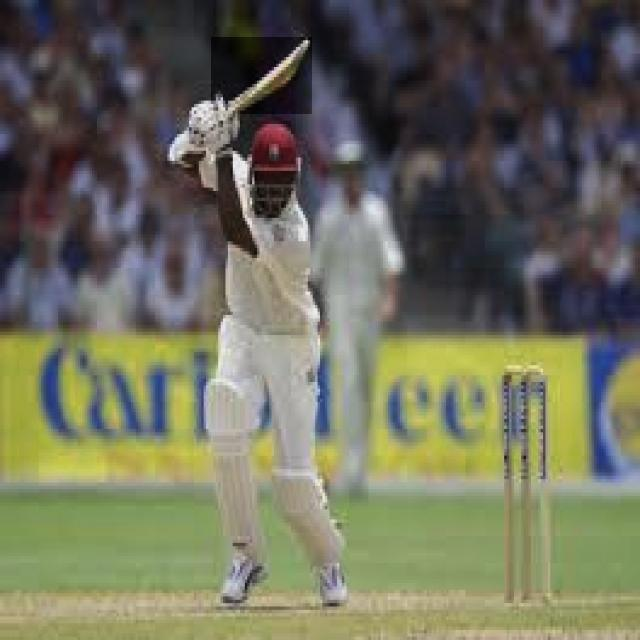bat: (215, 38, 312, 111)
